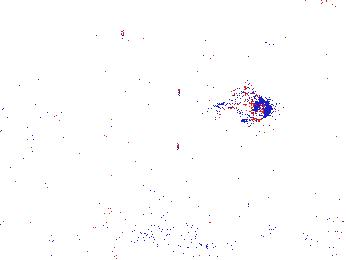X-ray fish: (219, 94, 269, 124)
red belly glassfish: (263, 34, 299, 55)
